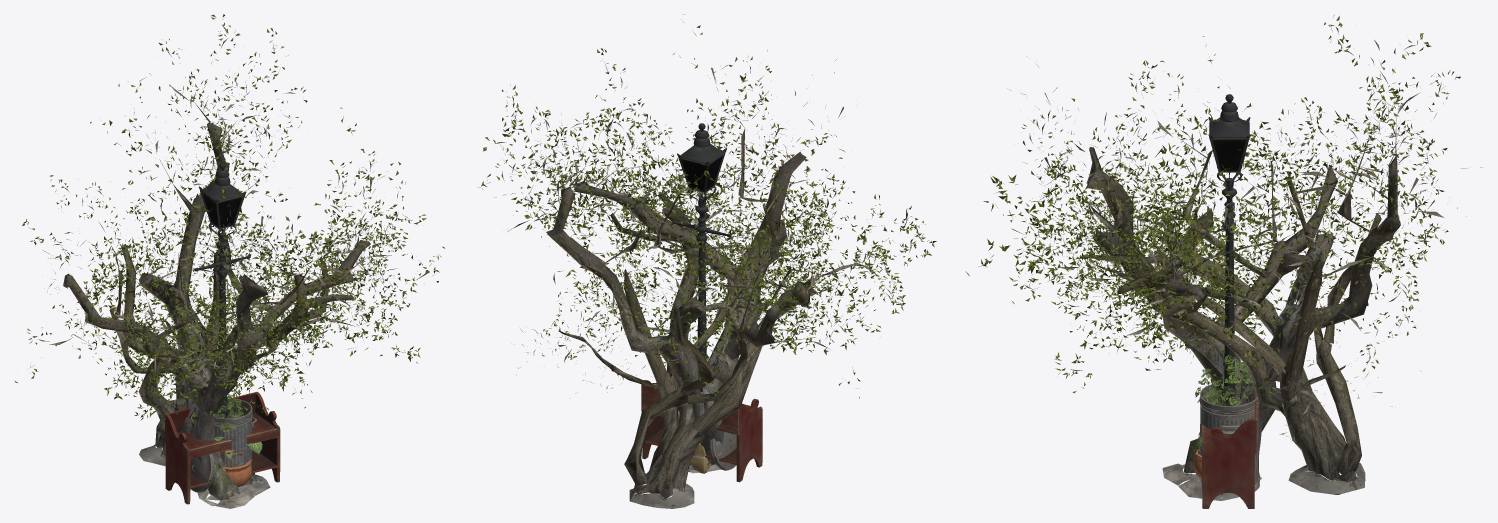
Rendered from cenario.glb.
3 renders of one model, left to right at view 1: azimuth 30°, elevation 25°; view 2: azimuth 150°, elevation 25°; view 3: azimuth 270°, elevation 25°, orthographic. The views are drawn at different scales.
Visible parts, largest first — view 1: arvore1, arvore2, banco, poste, lixeira_metal, planta2, planta1; view 2: arvore1, arvore2, poste, banco, lixeira_metal; view 3: arvore1, arvore2, banco, poste, lixeira_metal, planta1.
Boxes of the visible parts, box(x1,y1,x2,y2) form: arvore1: box(15, 14, 438, 508); arvore2: box(22, 171, 444, 466); banco: box(165, 391, 280, 504); poste: box(194, 163, 250, 418); lixeira_metal: box(190, 398, 256, 492); planta2: box(208, 413, 262, 486); planta1: box(210, 373, 247, 458); arvore1: box(477, 14, 886, 473); arvore2: box(541, 97, 936, 508); poste: box(672, 123, 731, 391); banco: box(641, 380, 762, 482); lixeira_metal: box(689, 390, 736, 470); arvore1: box(965, 15, 1481, 500); arvore2: box(1009, 82, 1448, 494); banco: box(1202, 379, 1256, 508); poste: box(1208, 94, 1250, 405); lixeira_metal: box(1199, 384, 1259, 497); planta1: box(1195, 354, 1252, 438).
Size of the model in its own units: 4.61 by 4.96 by 4.7.
Materials: 29 (28 with a texture image).
